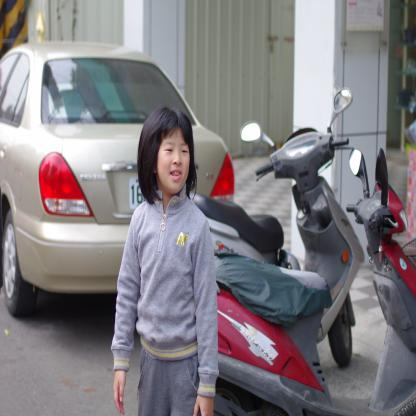Car: (0, 43, 235, 318)
